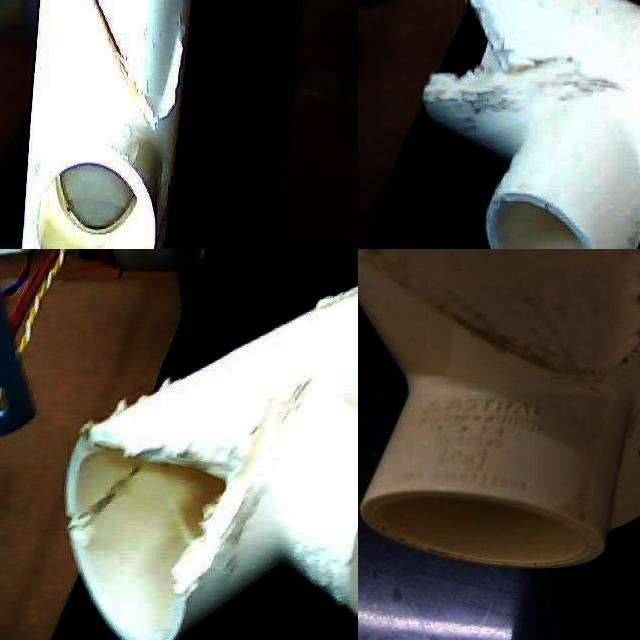Defective: (10, 0, 190, 249), (81, 418, 265, 638), (402, 266, 578, 391), (424, 0, 565, 121), (285, 271, 358, 337), (624, 249, 640, 388)
T Joint: (64, 293, 358, 640), (421, 0, 640, 249), (20, 0, 193, 249)
